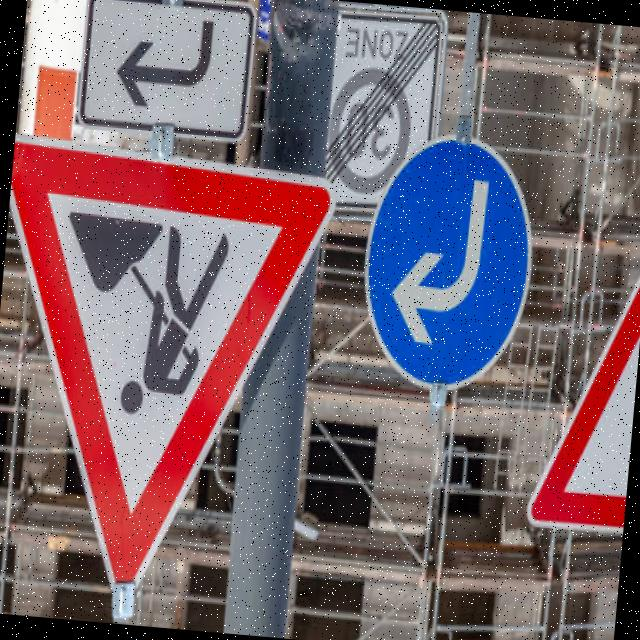compulsory_keep_right: (349, 128, 539, 409)
give_way: (515, 219, 640, 540)
road_work: (0, 129, 337, 604)
